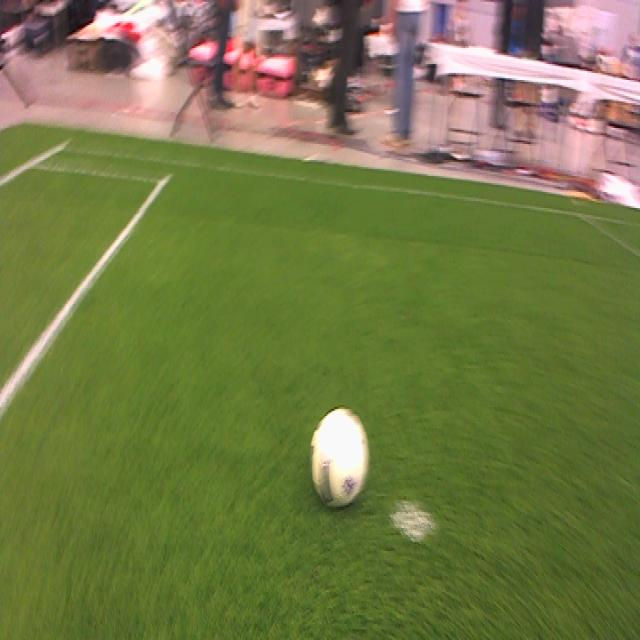ball: (308, 409, 369, 508)
